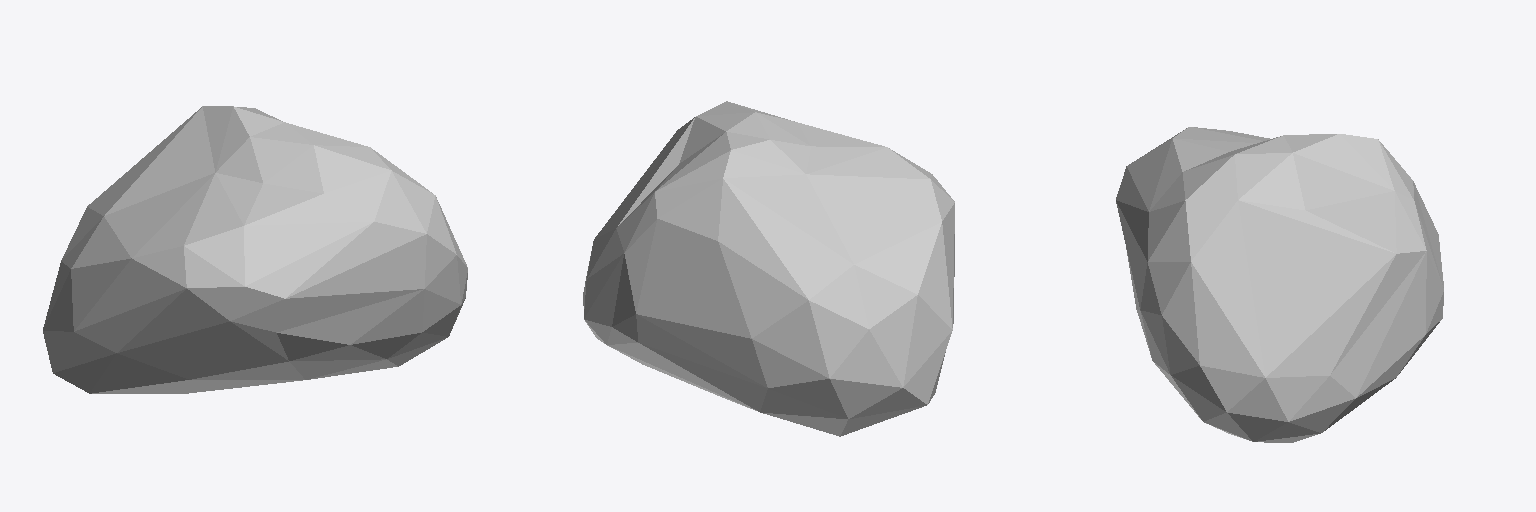
File: rock2.obj
The picture shows the model from 3 angles: view 1: azimuth 30°, elevation 25°; view 2: azimuth 150°, elevation 25°; view 3: azimuth 270°, elevation 25°; orthographic projection.
Visible parts, largest first — view 1: GeoSphere001; view 2: GeoSphere001; view 3: GeoSphere001.
Part boxes in pixels (bbox=[...]): GeoSphere001: bbox=[43, 106, 467, 393]; GeoSphere001: bbox=[583, 101, 954, 436]; GeoSphere001: bbox=[1116, 127, 1443, 442].
Size of the model in its own units: 1.67 by 1.1 by 1.3.